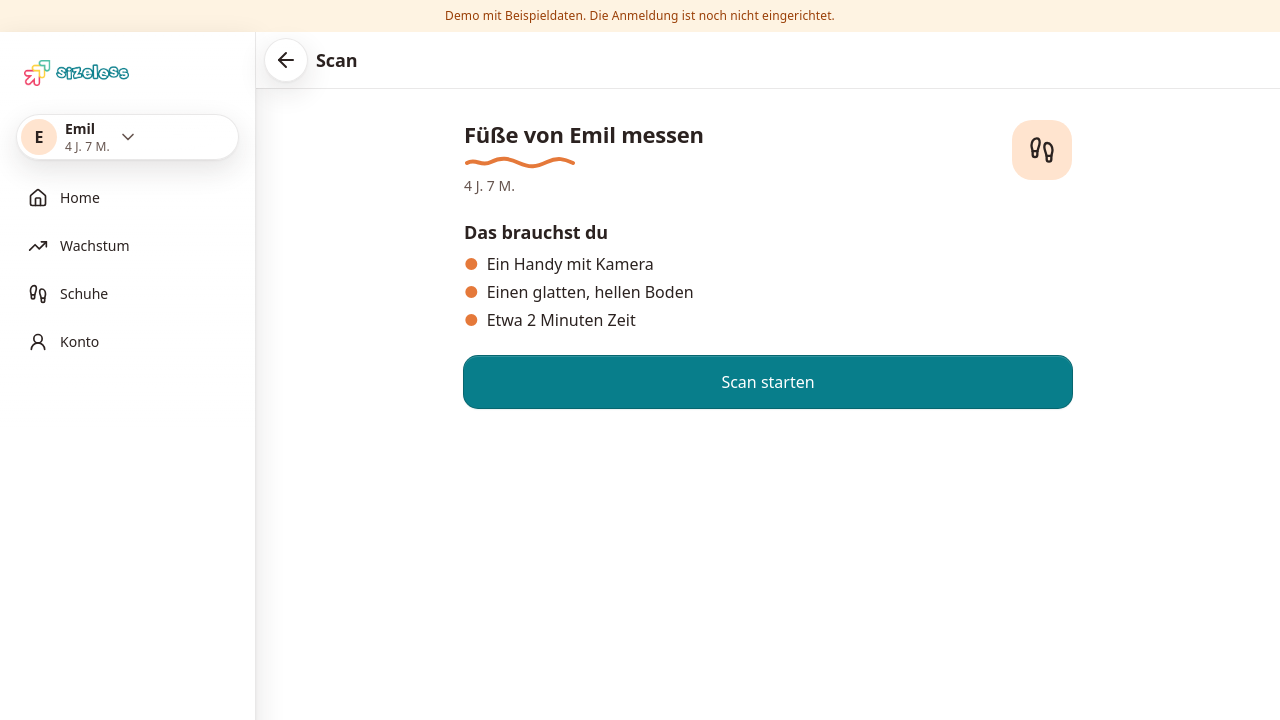
Test: Scan intro › goes back to the intro when the scan is cancelled
Click the button "Scan starten".
click(768, 382)  # box [464,356,1072,408]
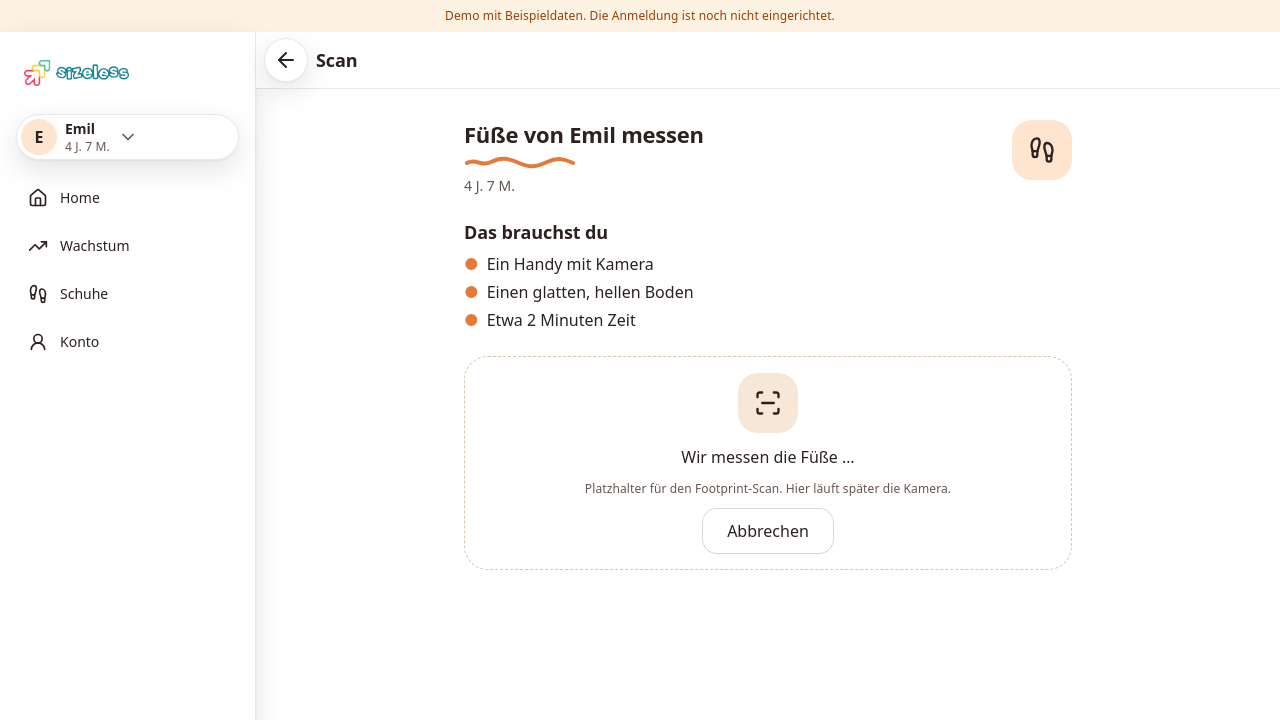
Expected: the message shows "Wir messen", [681,446,855,468]
Click the button "Abbrechen".
click(768, 531)  # box [703,509,833,553]
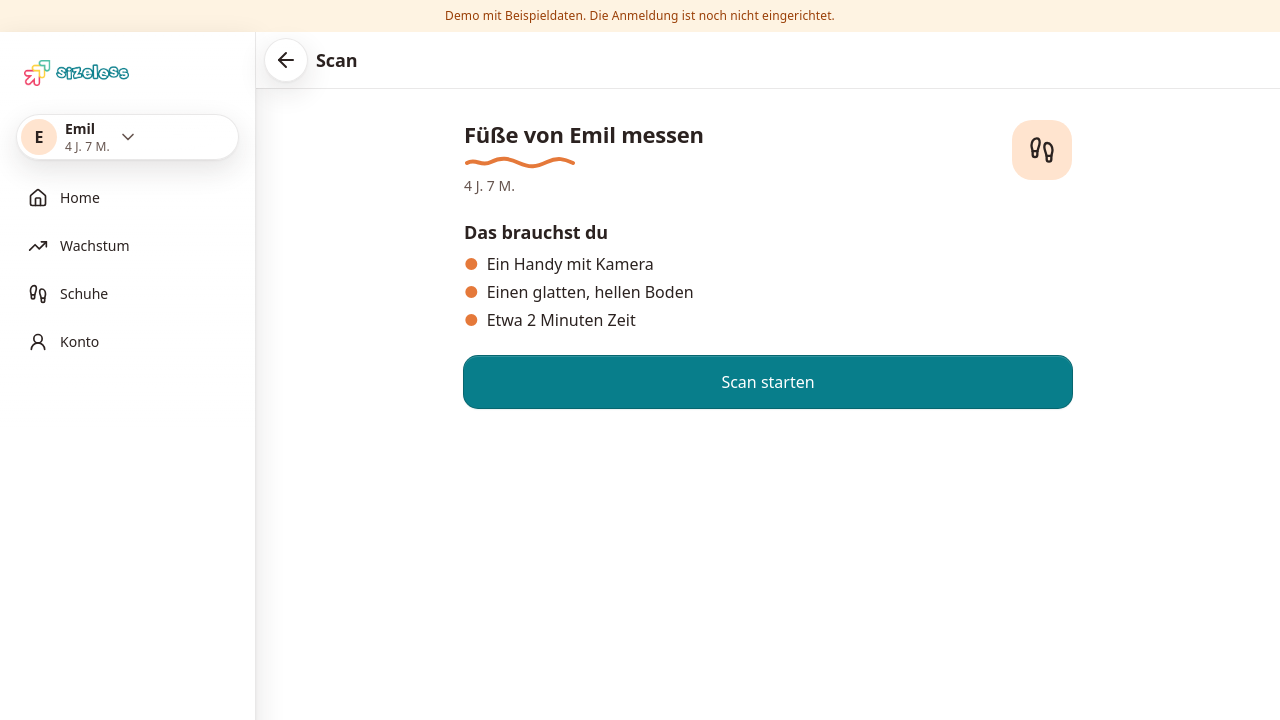
Expected: the button "Scan starten" is shown, [464,356,1072,408]
